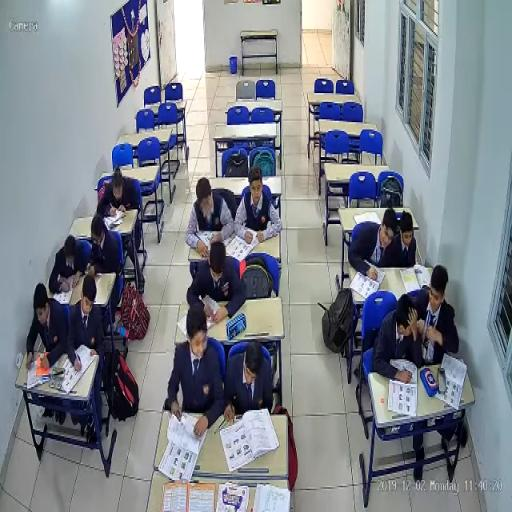empty_seat: (340, 170, 374, 258), (136, 134, 167, 209), (308, 81, 334, 153), (156, 102, 182, 169), (315, 100, 341, 164), (163, 82, 186, 152), (323, 131, 350, 189), (250, 106, 276, 164), (340, 100, 362, 154), (376, 169, 403, 205), (221, 103, 254, 130), (358, 128, 382, 164), (221, 147, 248, 177), (144, 86, 162, 129), (111, 143, 133, 170), (135, 108, 155, 134), (255, 78, 275, 99)
occupied_seat: (163, 308, 224, 436), (63, 275, 109, 438), (26, 281, 75, 426), (224, 329, 278, 419), (361, 290, 418, 374), (188, 240, 246, 320), (348, 206, 406, 278), (416, 267, 456, 362), (97, 169, 142, 253), (233, 167, 282, 243), (186, 184, 237, 252), (86, 214, 128, 296), (48, 219, 90, 283), (384, 210, 418, 266)
